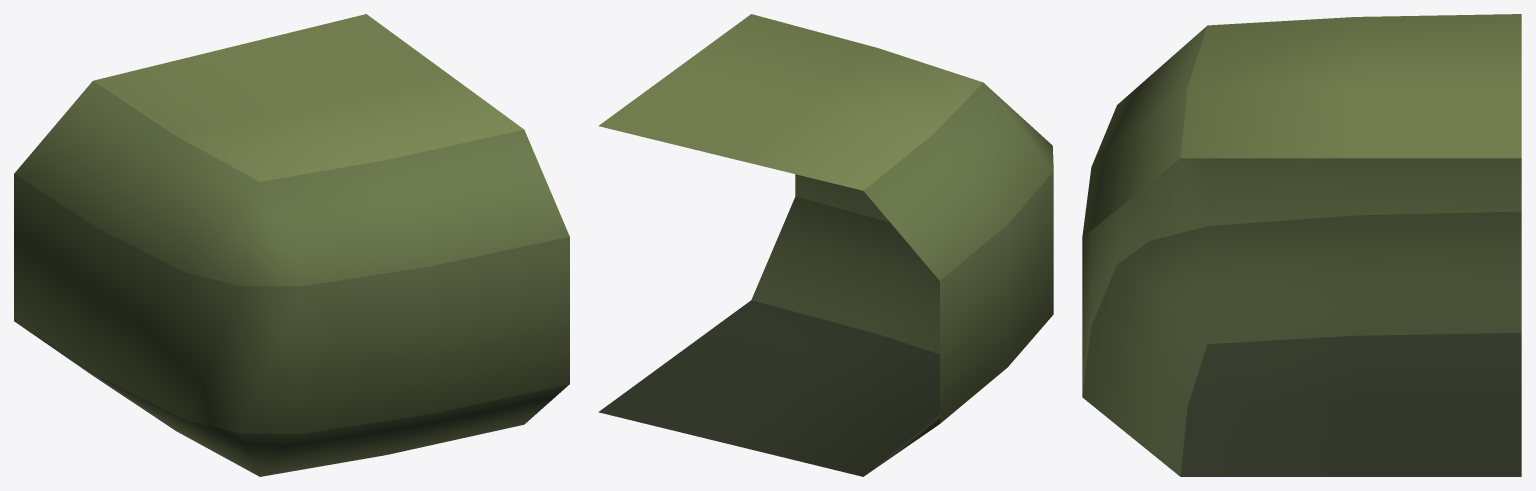
Rendered from grass_top_1x1_corner_front_left.fbx.
3 renders of one model, left to right at view 1: azimuth 30°, elevation 25°; view 2: azimuth 150°, elevation 25°; view 3: azimuth 270°, elevation 25°, orthographic. The views are drawn at different scales.
Visible parts, largest first — view 1: grass_top_1x1_corner_front_left; view 2: grass_top_1x1_corner_front_left; view 3: grass_top_1x1_corner_front_left.
Part boxes in pixels (x1=…): grass_top_1x1_corner_front_left: x1=14, y1=14, x2=569, y2=476; grass_top_1x1_corner_front_left: x1=598, y1=14, x2=1053, y2=476; grass_top_1x1_corner_front_left: x1=1082, y1=14, x2=1521, y2=476.
Bounding box in the file's own units: 68.72 × 55 × 68.72.
